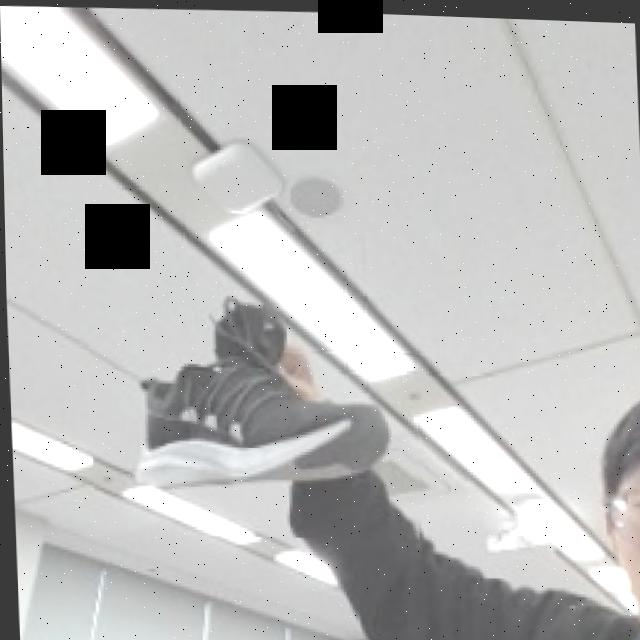shoe: (85, 272, 423, 543)
